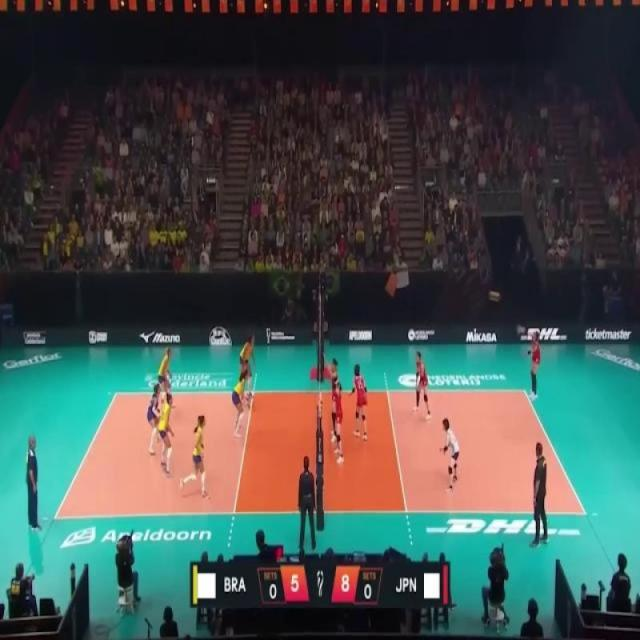volleyball: (488, 290, 501, 303)
